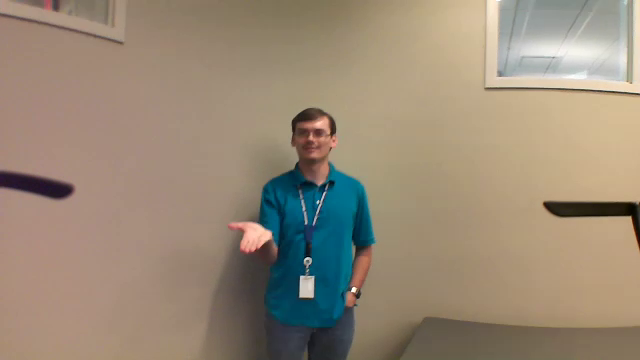land: (214, 212, 275, 258)
